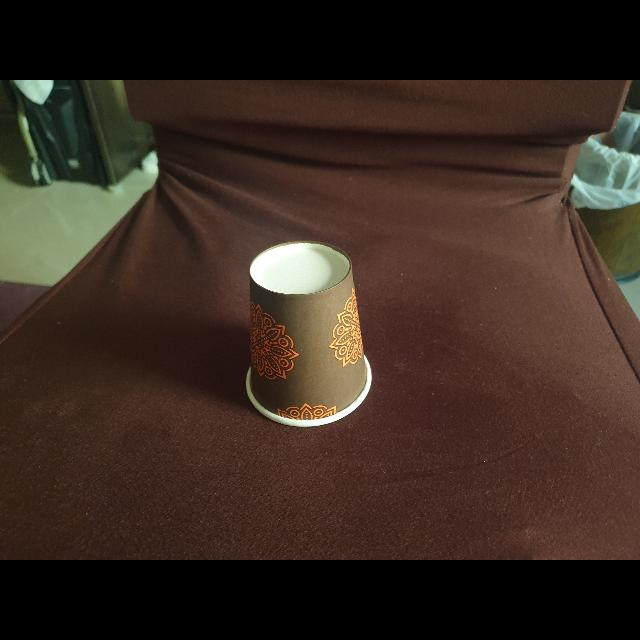trash: (238, 237, 378, 427)
